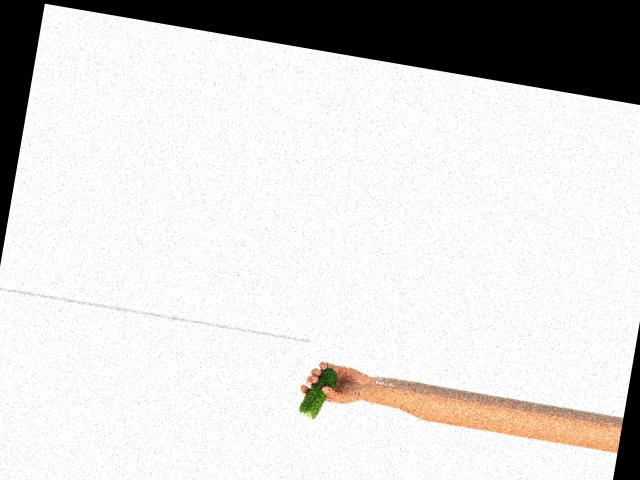cucumber: (298, 363, 338, 421)
